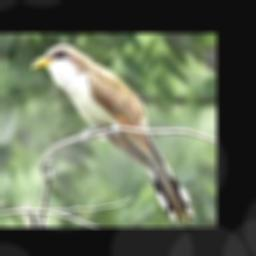Cuckoo: (32, 45, 194, 223)
